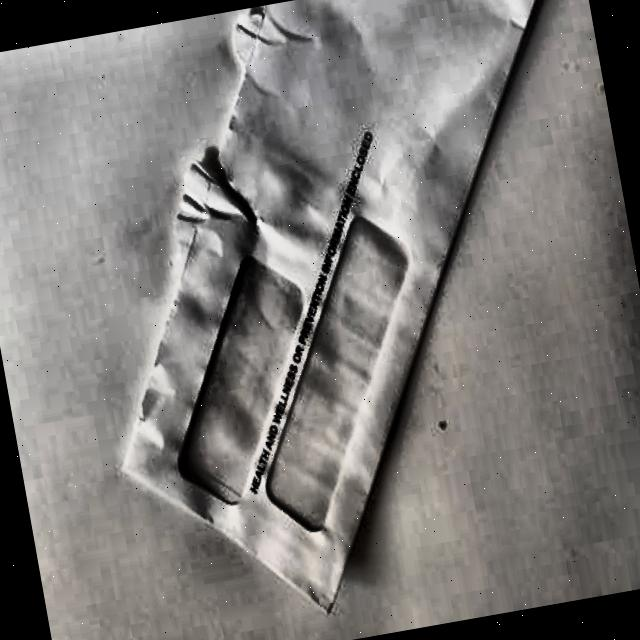paper: (35, 0, 640, 626)
